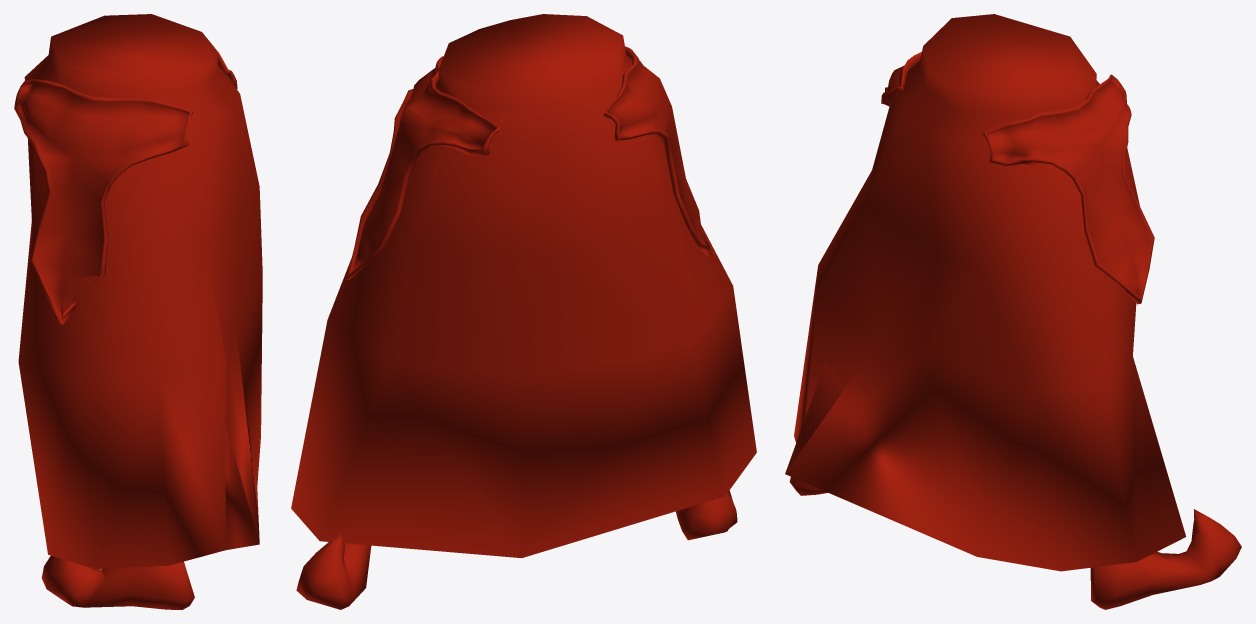
The model's file is bot_000037.obj.
The picture shows the model from 3 angles, left to right: view 1: azimuth 30°, elevation 25°; view 2: azimuth 150°, elevation 25°; view 3: azimuth 270°, elevation 25°; orthographic projection. The views are drawn at different scales.
Visible parts, largest first — view 1: LowPoly_Warlock.004_Plane.004; view 2: LowPoly_Warlock.004_Plane.004; view 3: LowPoly_Warlock.004_Plane.004.
Part boxes in pixels (<box>): LowPoly_Warlock.004_Plane.004: <box>14,14,262,609</box>; LowPoly_Warlock.004_Plane.004: <box>291,14,756,609</box>; LowPoly_Warlock.004_Plane.004: <box>785,14,1241,609</box>.
Size of the model in its own units: 0.6918 by 1.12 by 0.9214.
